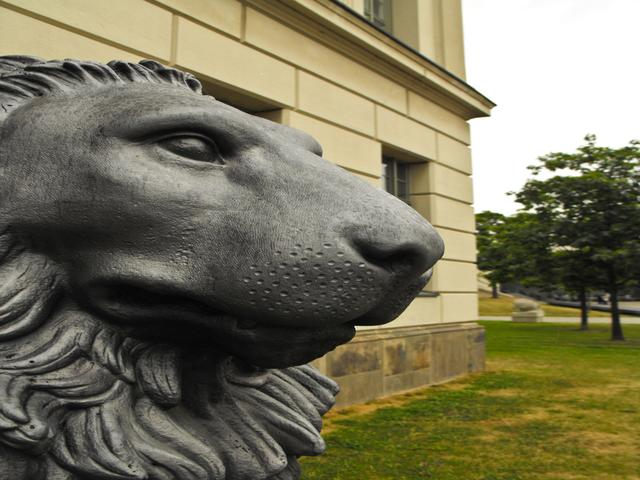lion: (1, 26, 454, 451)
